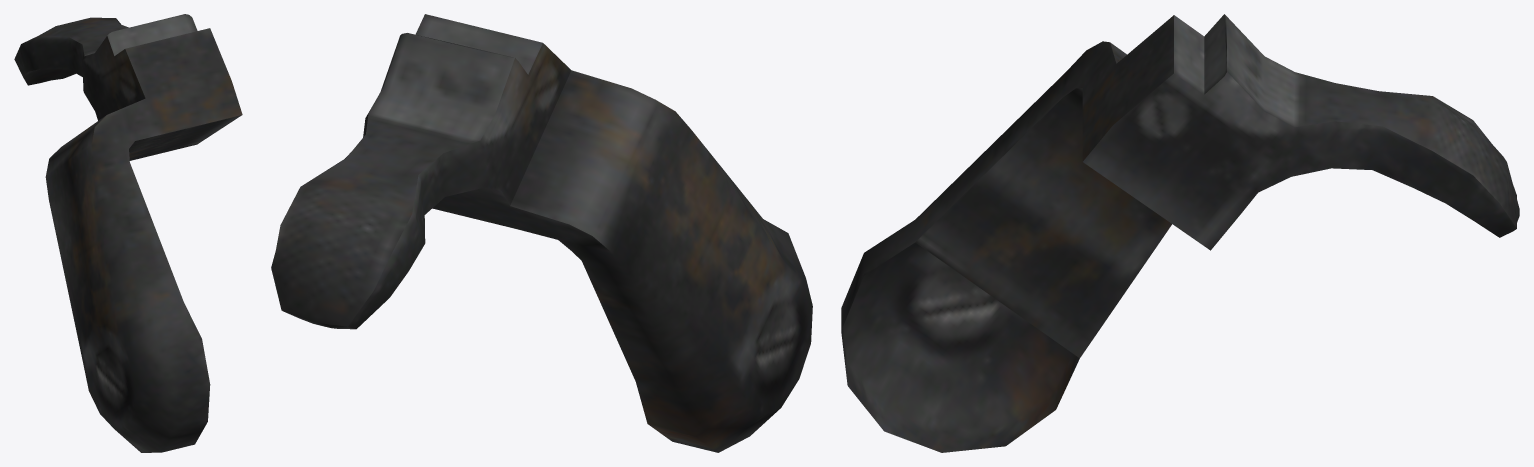
File: zatvor.obj
3 views of the same model, side by side, from view 1: azimuth 30°, elevation 25°; view 2: azimuth 150°, elevation 25°; view 3: azimuth 270°, elevation 25° (orthographic). The views are drawn at different scales.
Parts seen in each view (by area): view 1: wpn34_ashot; view 2: wpn34_ashot; view 3: wpn34_ashot.
Boxes of the visible parts, x1,y1,x2,y2 form: wpn34_ashot: (14, 14, 242, 452); wpn34_ashot: (271, 14, 812, 452); wpn34_ashot: (841, 14, 1519, 452).
Bounding box in the file's own units: 0.0313 × 0.0559 × 0.0742.
1 material, 1 textured.
